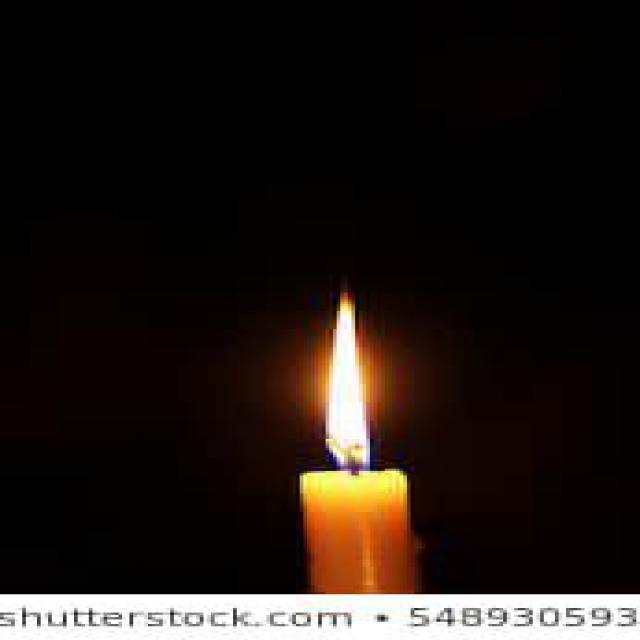Fire: (324, 292, 372, 468)
